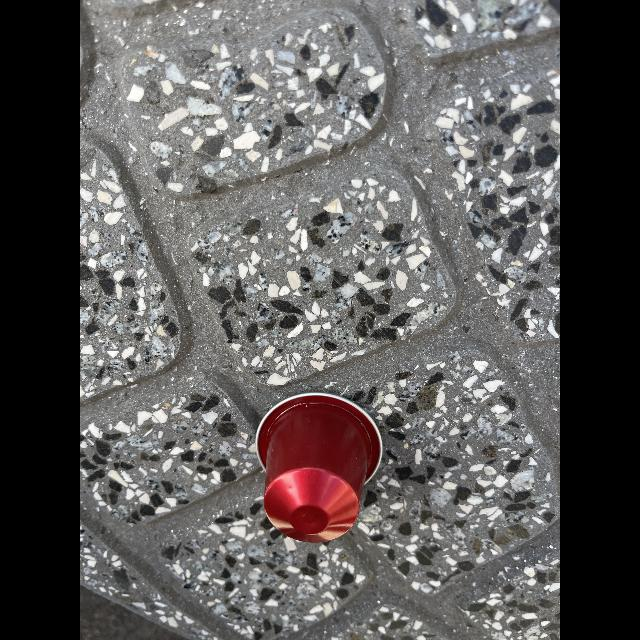intact_capsule: (242, 384, 404, 550)
